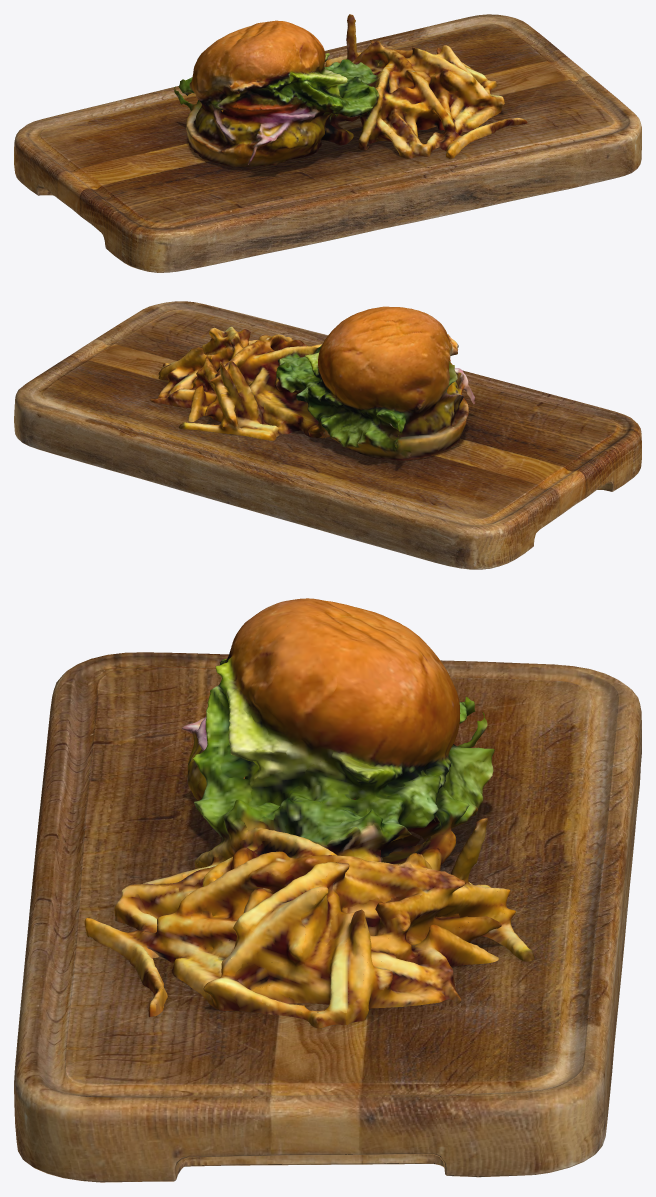
File: cheeseburger-tabua-fritas-android.glb
3 renders of one model, top to bottom at view 1: azimuth 30°, elevation 25°; view 2: azimuth 150°, elevation 25°; view 3: azimuth 270°, elevation 25°, orthographic. The views are drawn at different scales.
Parts seen in each view (by area): view 1: tabua, comida, comida_7da721; view 2: tabua, comida, comida_7da721; view 3: tabua, comida, comida_7da721.
Boxes of the visible parts, x1,y1,x2,y2 form: tabua: (14,14,641,272); comida: (174,14,527,167); comida_7da721: (186,36,526,164); tabua: (14,301,641,569); comida: (150,306,475,460); comida_7da721: (161,307,463,459); tabua: (14,652,641,1182); comida: (84,598,534,1028); comida_7da721: (85,599,515,1018).
Size of the model in its own units: 0.2426 by 0.0705 by 0.1392.
Materials: 2 (2 with a texture image).
